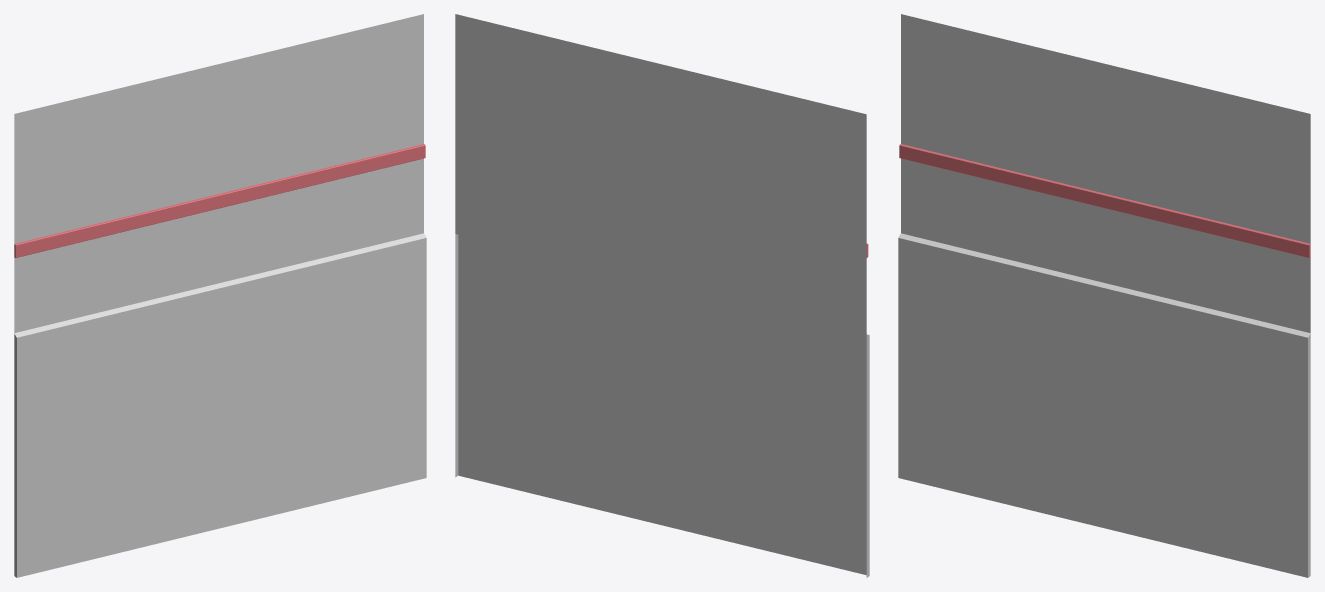
Rendered from Hallway_Wall.002.fbx.
3 renders of one model, left to right at view 1: azimuth 30°, elevation 25°; view 2: azimuth 150°, elevation 25°; view 3: azimuth 330°, elevation 25°, orthographic.
Visible parts, largest first — view 1: Hallway_Wall.002; view 2: Hallway_Wall.002; view 3: Hallway_Wall.002.
Boxes of the visible parts, x1,y1,x2,y2 form: Hallway_Wall.002: (14, 14, 426, 577); Hallway_Wall.002: (455, 14, 869, 577); Hallway_Wall.002: (898, 14, 1310, 577).
Bounding box in the file's own units: 255 × 275 × 2.92.
